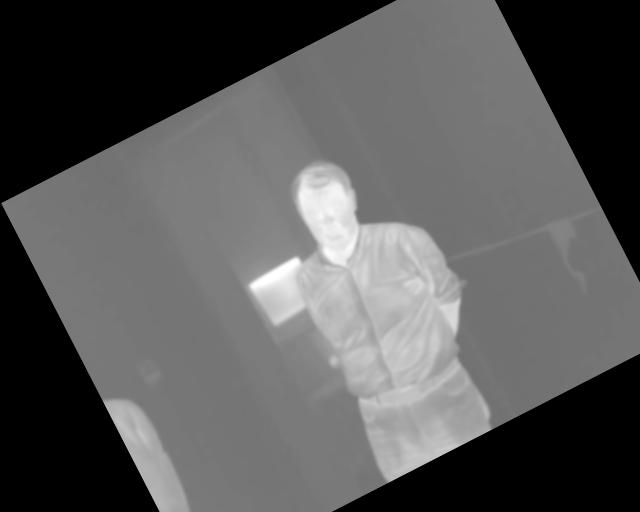face: (278, 150, 378, 262)
